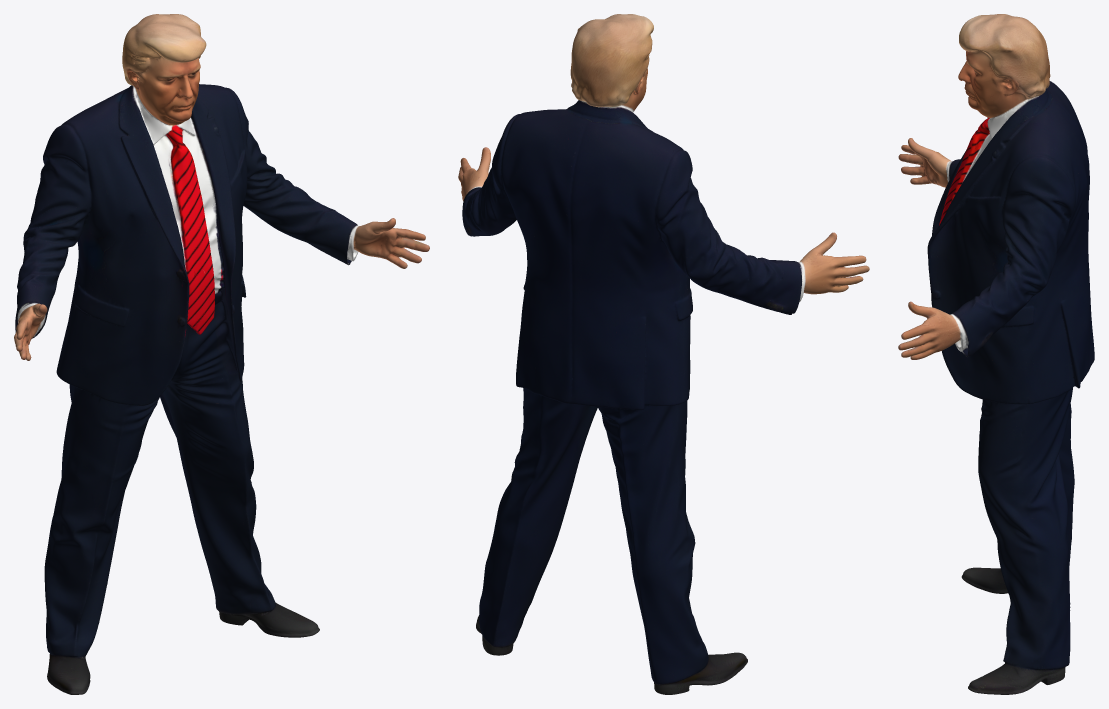
File: us-presenter.glb
The picture shows the model from 3 angles, left to right: view 1: azimuth 30°, elevation 25°; view 2: azimuth 150°, elevation 25°; view 3: azimuth 270°, elevation 25°; orthographic projection. The views are drawn at different scales.
Bounding box in the file's own units: 1.28 × 1.9 × 0.5501.
1 material, 1 textured.
